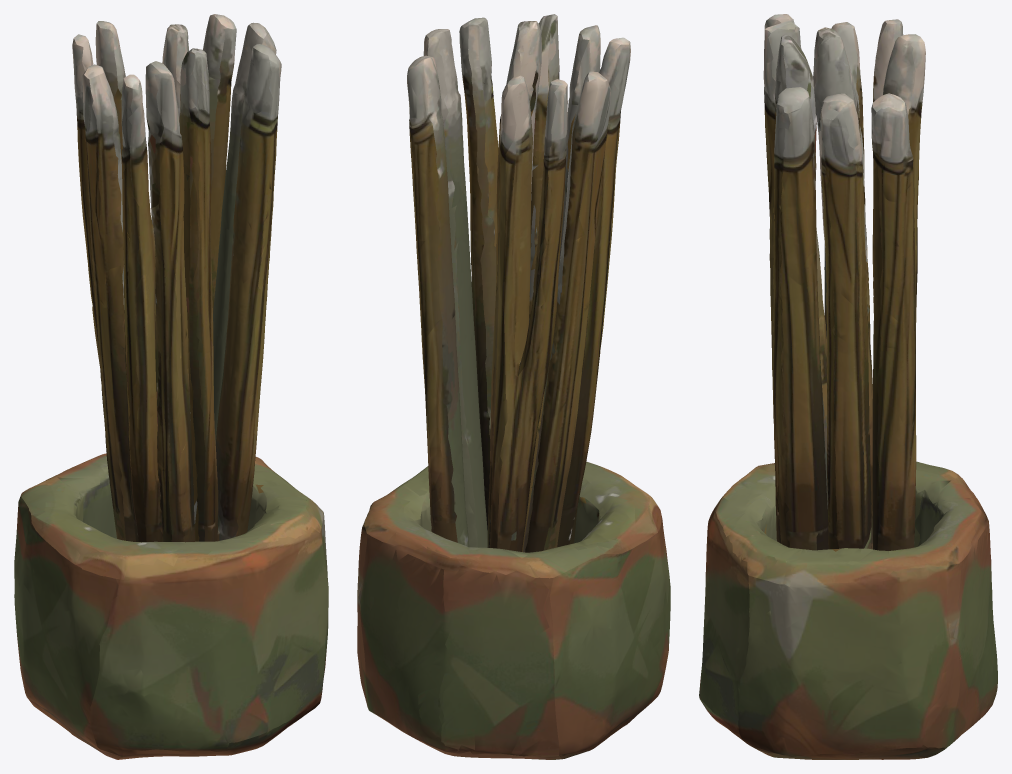
The model's file is item_incense.glb.
3 views of the same model, side by side, from view 1: azimuth 30°, elevation 25°; view 2: azimuth 150°, elevation 25°; view 3: azimuth 270°, elevation 25° (orthographic).
Visible parts, largest first — view 1: item_incense; view 2: item_incense; view 3: item_incense.
Boxes of the visible parts, x1,y1,x2,y2 form: item_incense: [14, 14, 328, 759]; item_incense: [357, 14, 670, 759]; item_incense: [699, 14, 997, 759].
Size of the model in its own units: 0.0953 by 0.25 by 0.0985.
1 material, 1 textured.
